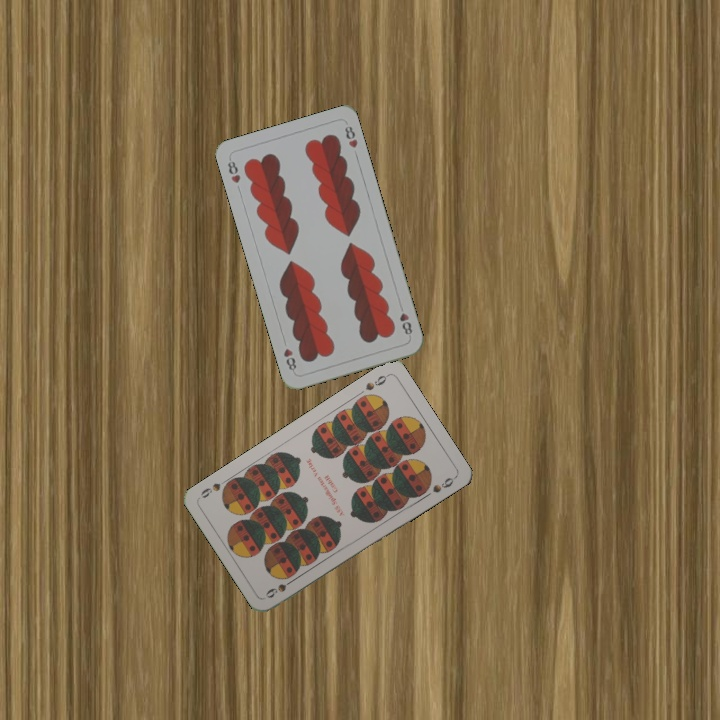H8: (223, 154, 243, 186), (395, 309, 415, 339)
S9: (261, 574, 299, 601), (361, 370, 391, 393)
